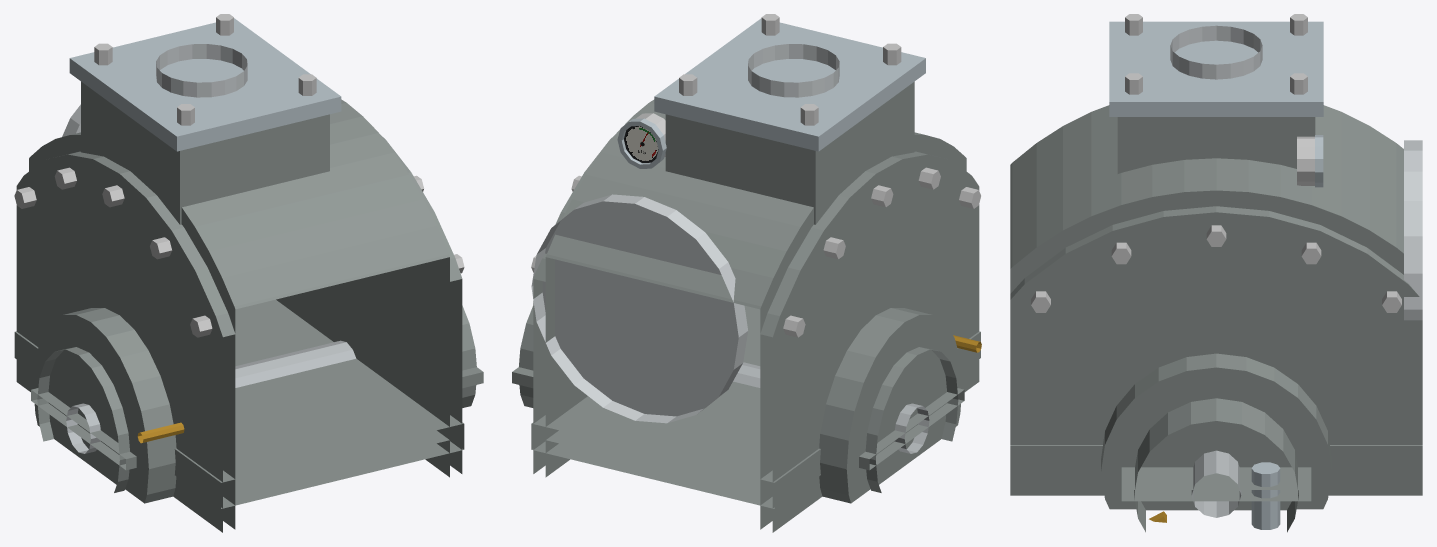
The model's file is cell_36.obj.
3 renders of one model, left to right at view 1: azimuth 30°, elevation 25°; view 2: azimuth 150°, elevation 25°; view 3: azimuth 270°, elevation 25°, orthographic.
Bounding box in the file's own units: 1 × 1 × 1.
